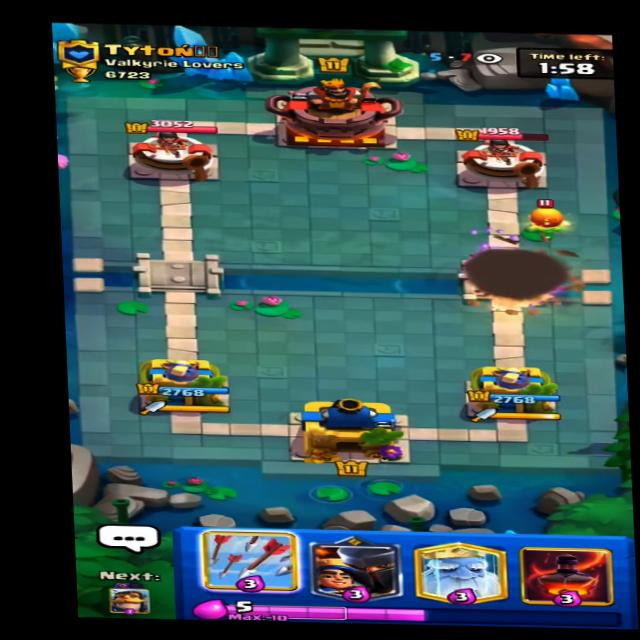phoenix-egg: (519, 194, 570, 233)
